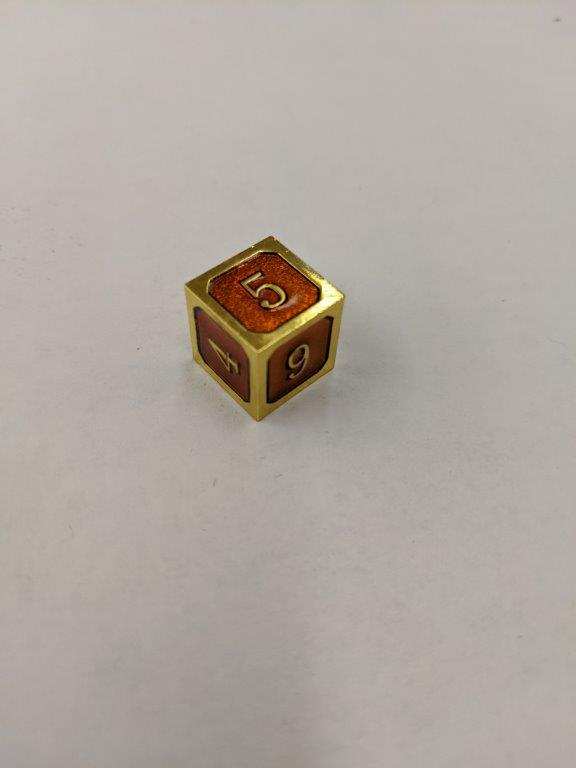d6-5: (185, 233, 345, 422)
